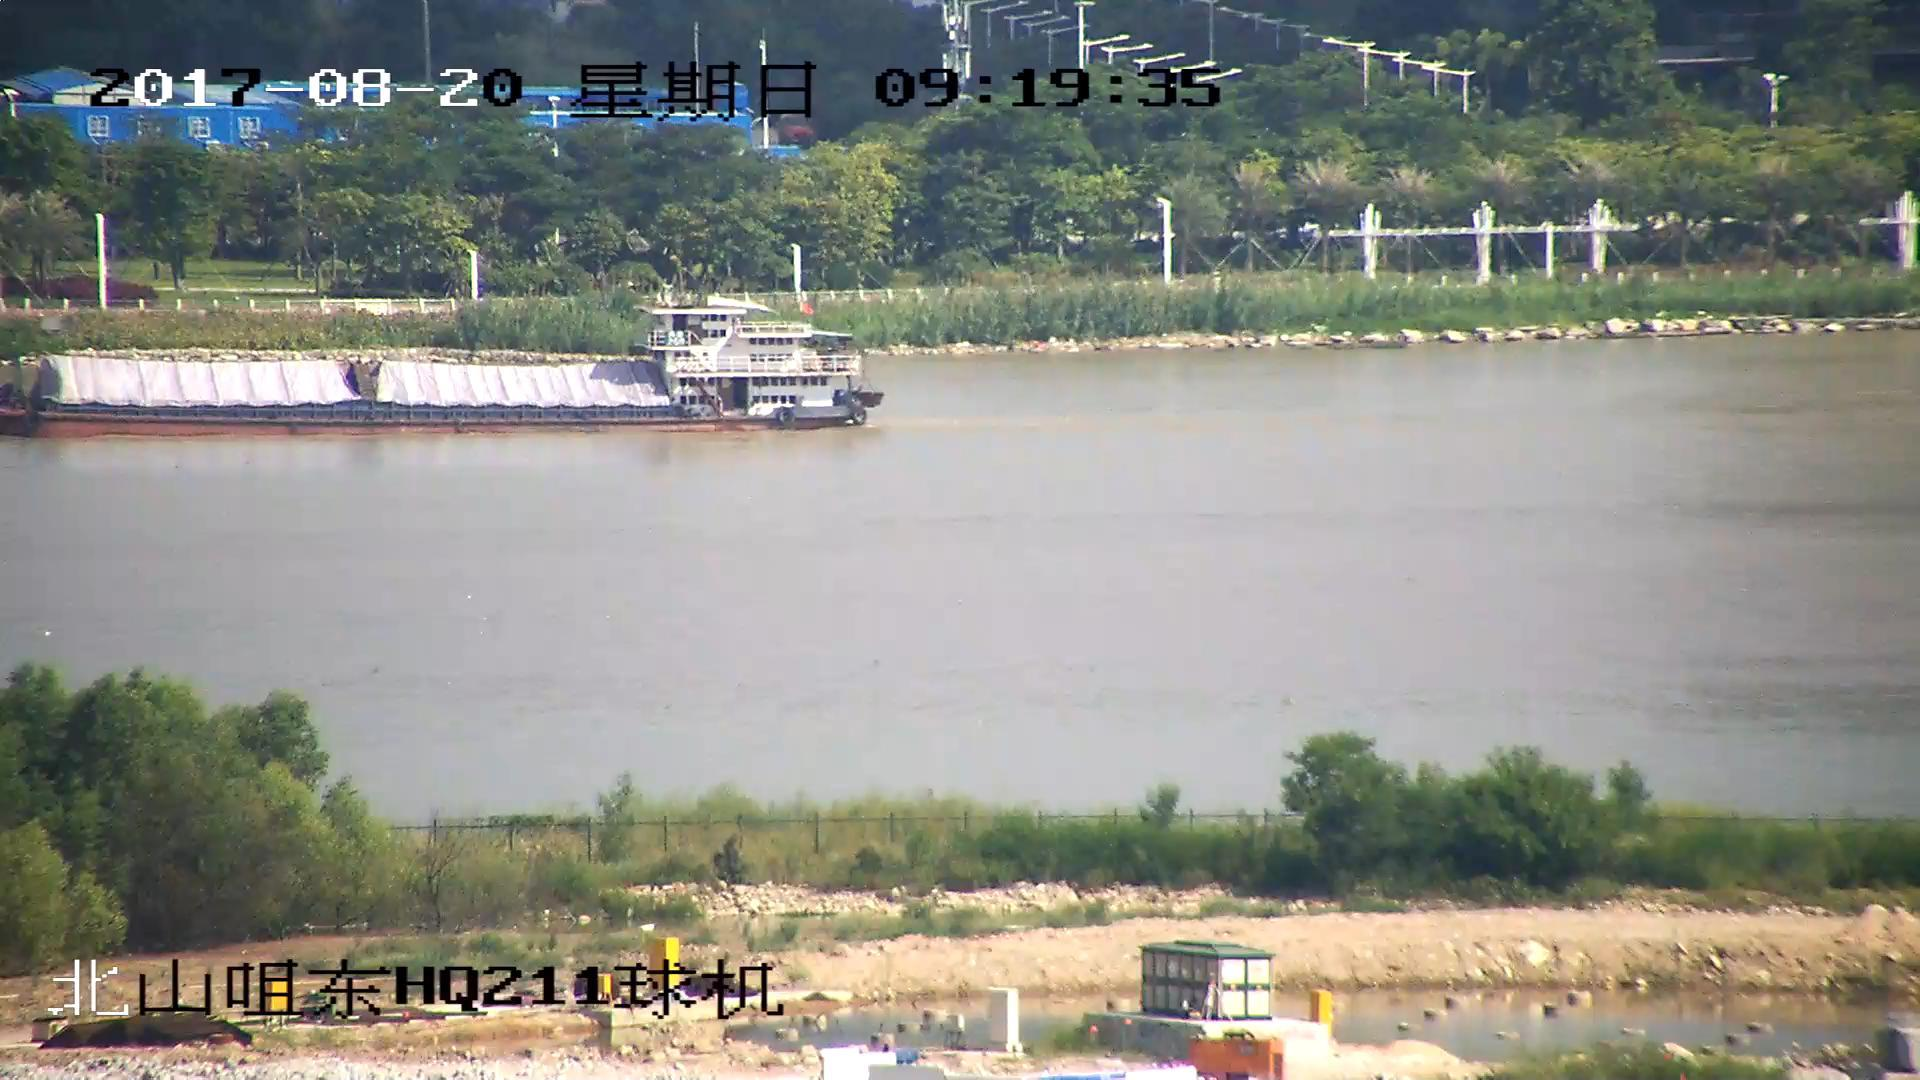Ship: (3, 295, 876, 444)
